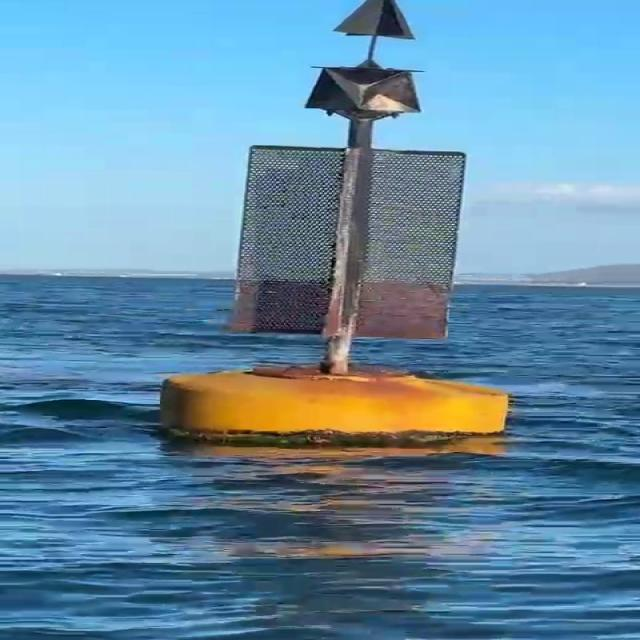marque: (153, 1, 519, 444)
